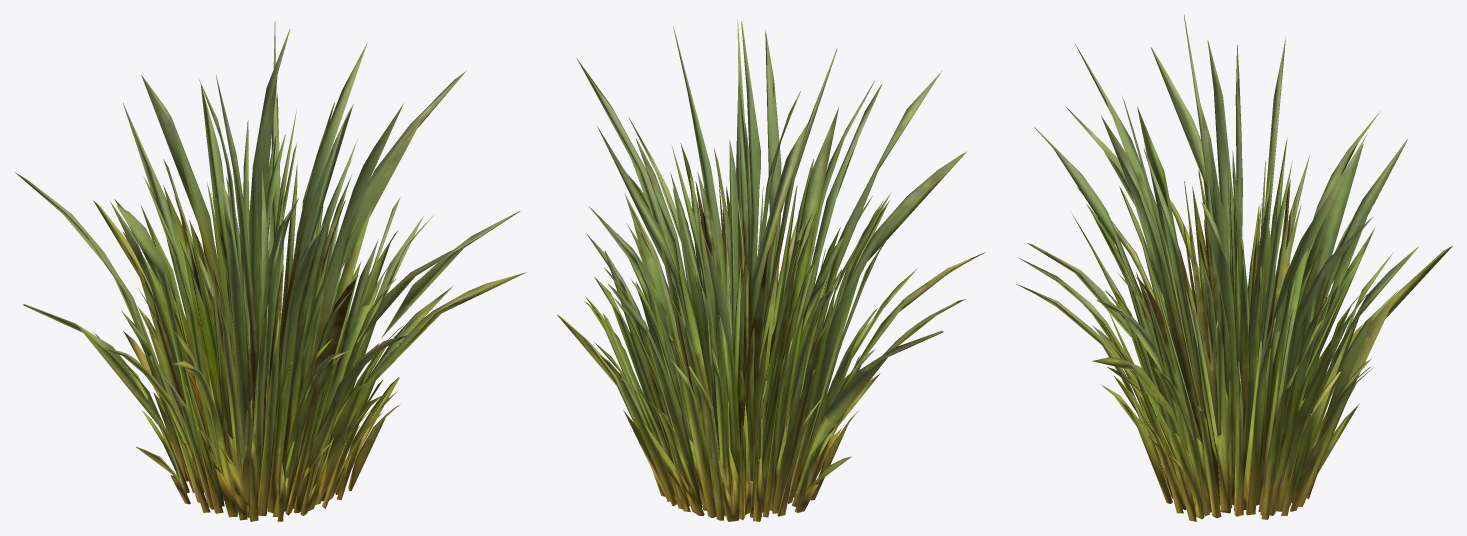
The model's file is swampgrass3.opt.glb.
3 views of the same model, side by side, from view 1: azimuth 30°, elevation 25°; view 2: azimuth 150°, elevation 25°; view 3: azimuth 270°, elevation 25° (orthographic). The views are drawn at different scales.
Visible parts, largest first — view 1: node_0; view 2: node_0; view 3: node_0.
Boxes of the visible parts, bbox=[...] form: node_0: bbox=[15, 21, 526, 521]; node_0: bbox=[557, 19, 985, 521]; node_0: bbox=[1016, 14, 1452, 521].
Bounding box in the file's own units: 0.986 × 1.06 × 0.9228.
Materials: 1 (1 with a texture image).
